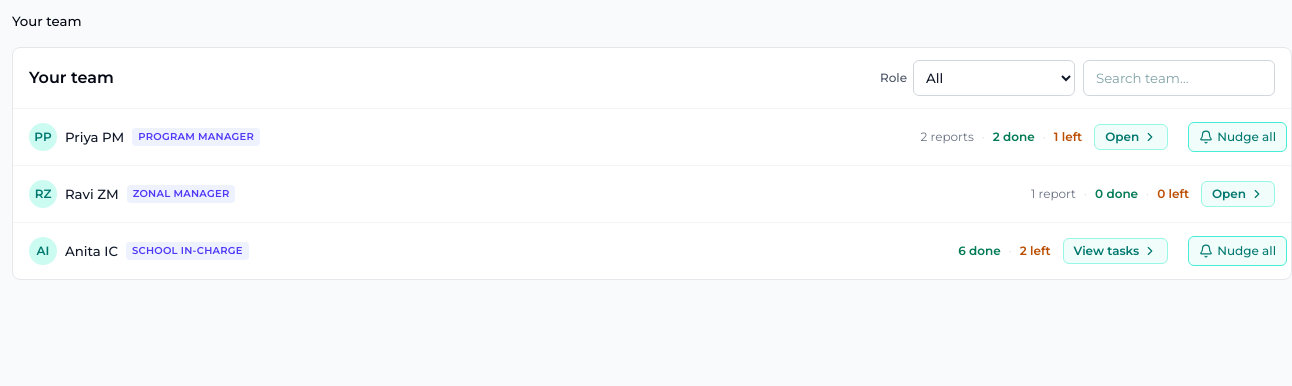
Scenario: TeamView — by-team drill › breadcrumb root click returns to the root list
This screenshot has width=1292, height=386.
What coordinates should you click on to do the following:
click the button "RZ Ravi ZM Zonal Manager 1 report · 0 done · 0 left Open"
I would click on:
 (92, 194)
Its box is [17, 166, 1287, 222].
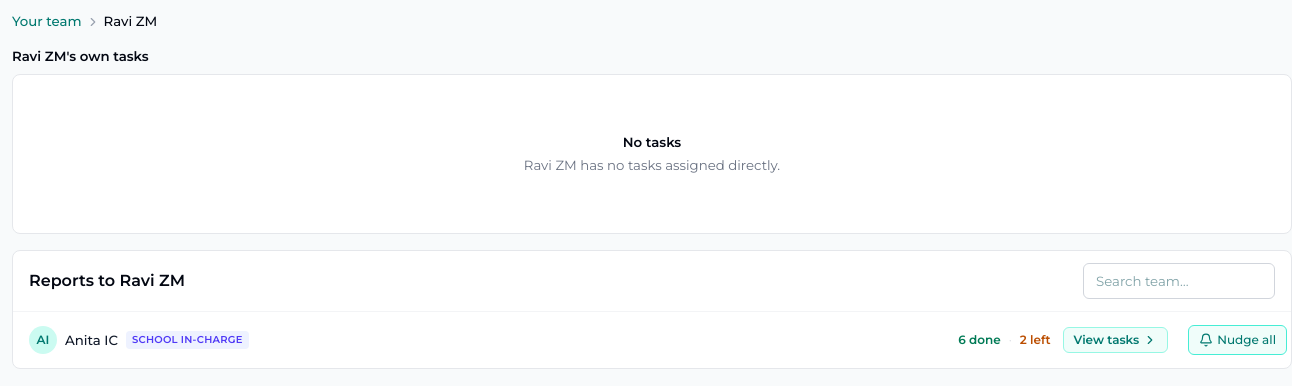
What coordinates should you click on to do the following:
click the button "Your team"
I would click on:
 (47, 22)
Its box is [12, 12, 82, 31].
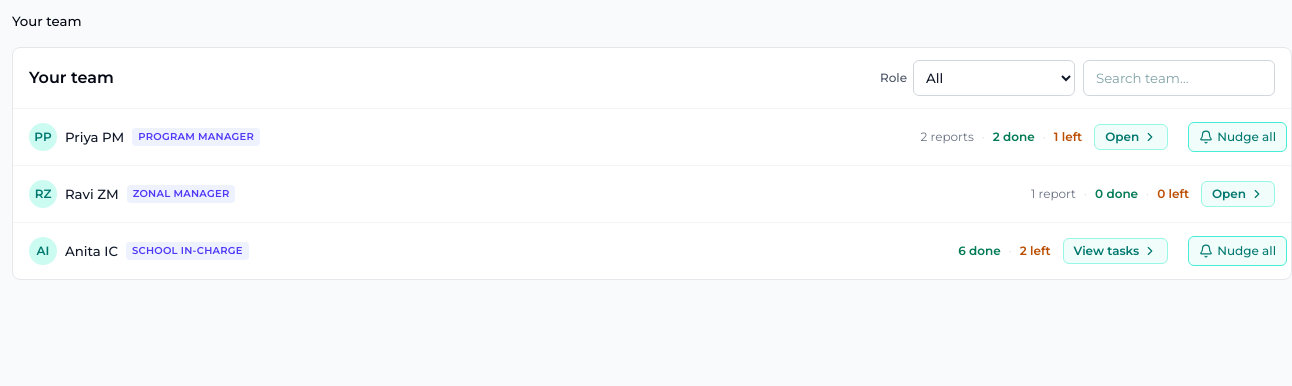
Expected: the text "Priya PM" is shown, [65, 128, 124, 146]
